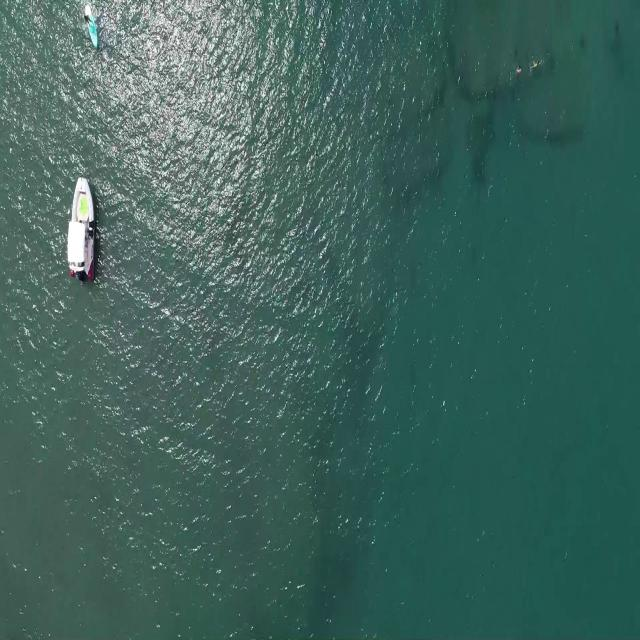boat: (65, 166, 97, 287)
person: (83, 12, 95, 27), (530, 59, 546, 70), (515, 65, 523, 75)
surfboard: (84, 5, 97, 50)
